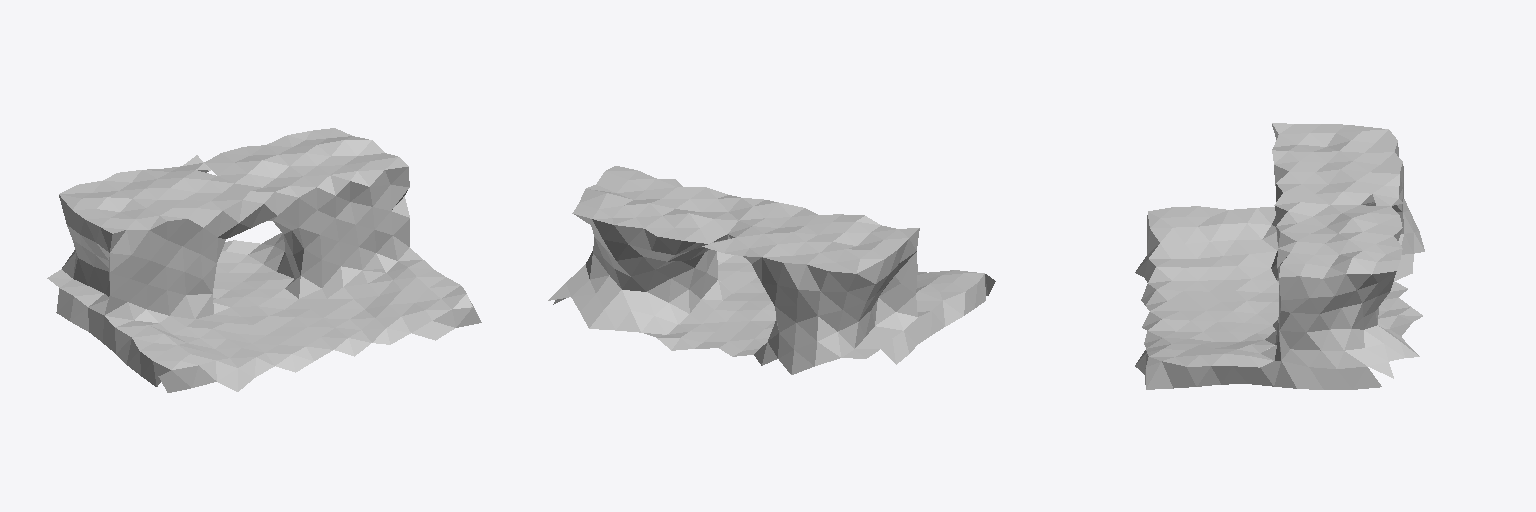
File: low_res.obj
3 views of the same model, side by side, from view 1: azimuth 30°, elevation 25°; view 2: azimuth 150°, elevation 25°; view 3: azimuth 270°, elevation 25° (orthographic).
Size of the model in its own units: 0.6496 by 0.2315 by 0.4991.